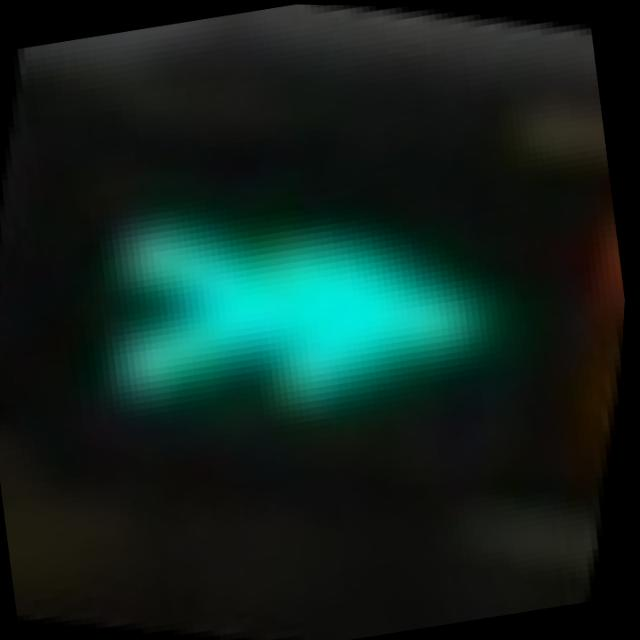green_light: (43, 120, 592, 543)
